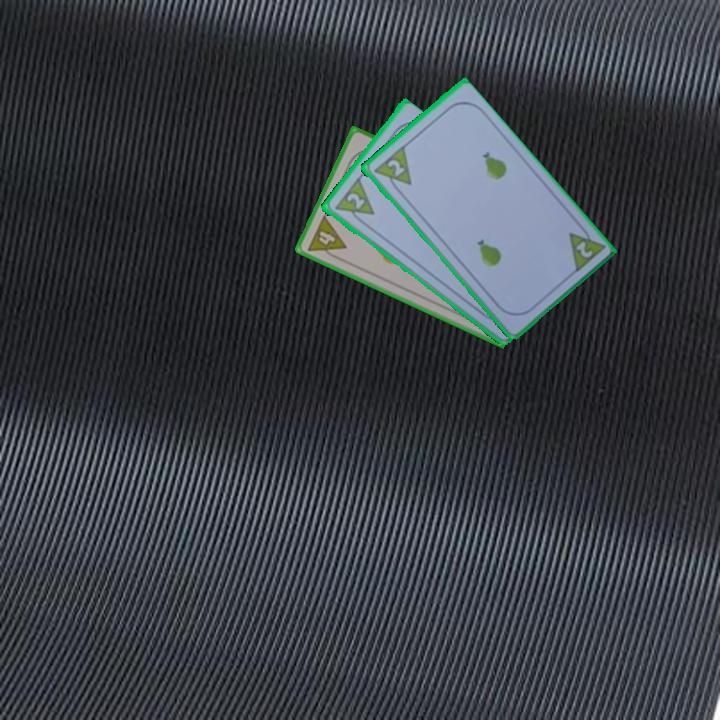2p: (330, 175, 377, 228), (369, 143, 414, 196), (571, 237, 595, 261)
4p: (303, 212, 349, 264)
